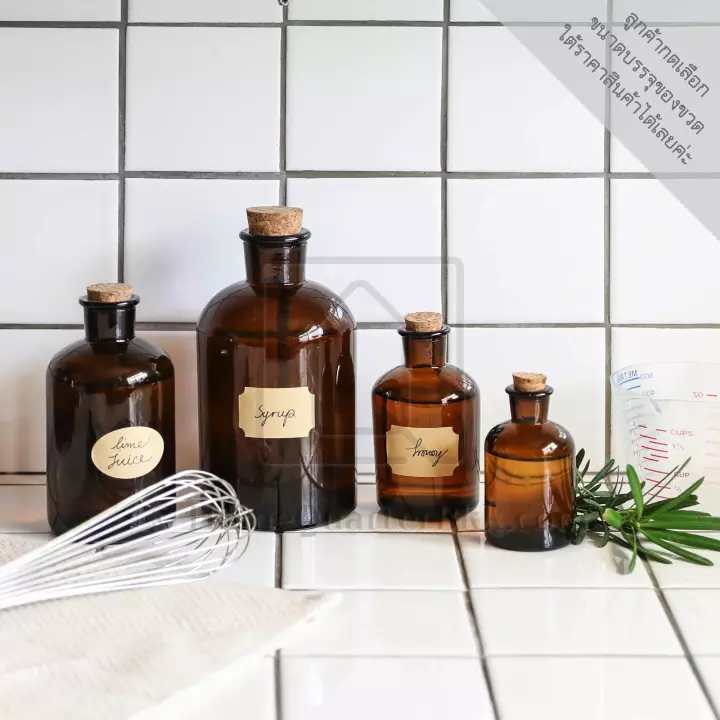glass_bottle: (194, 204, 361, 537), (45, 281, 181, 547), (366, 310, 481, 524), (482, 370, 577, 553)
